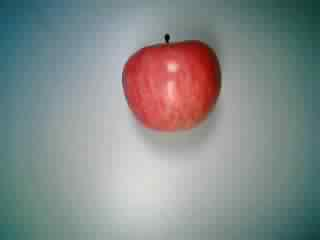apple: (120, 31, 224, 135)
